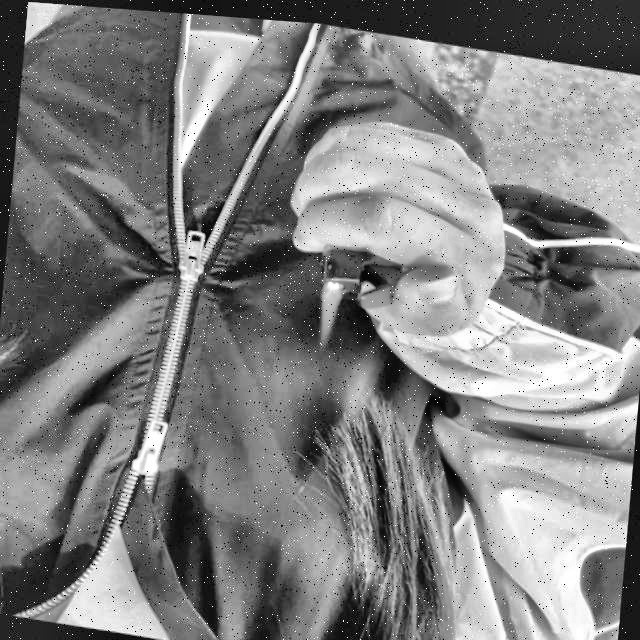Fire: (318, 274, 340, 342)
